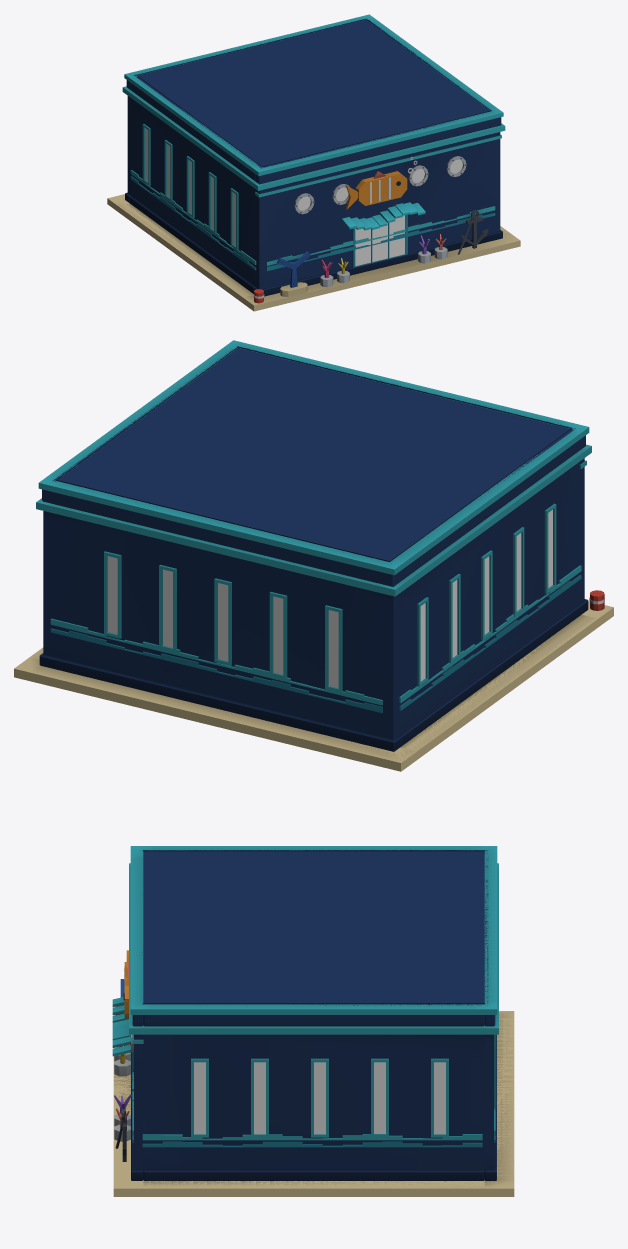
Rendered from AquariumCamelFloor.fbx.
3 views of the same model, one above another, from view 1: azimuth 30°, elevation 25°; view 2: azimuth 150°, elevation 25°; view 3: azimuth 270°, elevation 25° (orthographic). The views are drawn at different scales.
Visible parts, largest first — view 1: AQ_F_Rings, AQ_S_All, AQ_F_Smooth, AQ_F_Props, AQ_F_Quiet, AQ_F_Glass; view 2: AQ_F_Rings, AQ_S_All, AQ_F_Smooth, AQ_F_Quiet, AQ_F_Glass; view 3: AQ_S_All, AQ_F_Rings, AQ_F_Smooth, AQ_F_Quiet, AQ_F_Glass, AQ_F_Props.
Part boxes in pixels (box(x1,y1,x2,y2)): AQ_F_Rings: box(123, 14, 504, 289); AQ_S_All: box(107, 18, 520, 311); AQ_F_Smooth: box(122, 74, 505, 303); AQ_F_Props: box(253, 171, 488, 297); AQ_F_Quiet: box(115, 192, 519, 305); AQ_F_Glass: box(145, 128, 462, 266); AQ_F_Rings: box(36, 340, 591, 739); AQ_S_All: box(14, 346, 613, 771); AQ_F_Smooth: box(36, 427, 604, 751); AQ_F_Quiet: box(14, 599, 612, 762); AQ_F_Glass: box(107, 510, 552, 688); AQ_S_All: box(113, 850, 514, 1196); AQ_F_Rings: box(129, 846, 498, 1170); AQ_F_Smooth: box(112, 950, 498, 1180); AQ_F_Quiet: box(114, 1011, 513, 1188); AQ_F_Glass: box(194, 1062, 445, 1134); AQ_F_Props: box(112, 962, 130, 1141).
Size of the model in its own units: 60 by 20 by 60.
